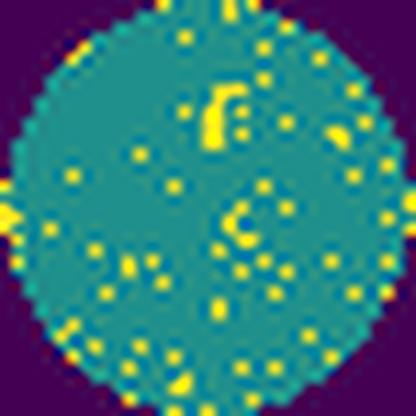Loc: (202, 82, 250, 150)
